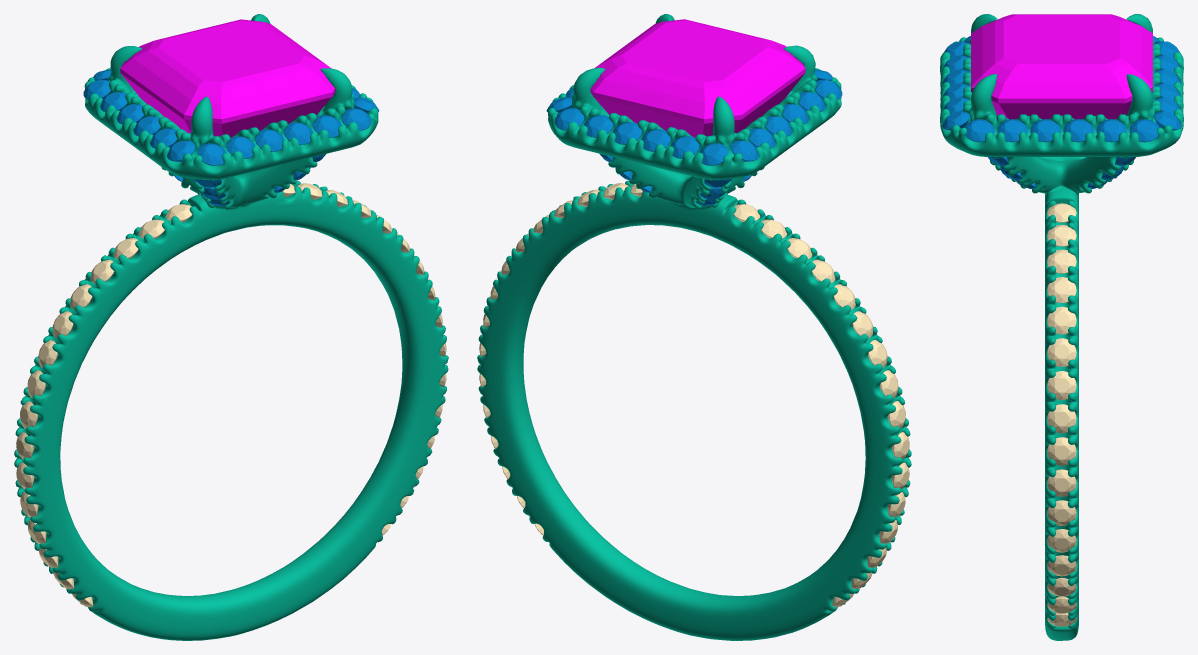
Rendered from BE1D64_AS_200ct_RENDER.glb.
The picture shows the model from 3 angles, left to right: view 1: azimuth 30°, elevation 25°; view 2: azimuth 150°, elevation 25°; view 3: azimuth 270°, elevation 25°; orthographic projection.
Parts seen in each view (by area): view 1: Metal 01, CS_Diamond_Asscher; view 2: Metal 01, CS_Diamond_Asscher; view 3: Metal 01, CS_Diamond_Asscher, Diamond_Round_Gem_SH.006, Diamond_Round_Gem_SH.005, Diamond_Round_Gem_SH.007, Diamond_Round_Gem_SH.008, Diamond_Round_Gem_SH.004, Diamond_Round_Gem_SH.009, Diamond_Round_Gem_SH.003, Diamond_Round_Gem_SH.010, Diamond_Round_Gem_HD.010, Diamond_Round_Gem_SH.002 (+12 smaller).
Part boxes in pixels (x1,y1,x2,y2): Metal 01: [14, 14, 448, 640]; CS_Diamond_Asscher: [120, 19, 335, 137]; Metal 01: [477, 14, 911, 640]; CS_Diamond_Asscher: [590, 19, 805, 137]; Metal 01: [940, 14, 1183, 640]; CS_Diamond_Asscher: [971, 14, 1152, 119]; Diamond_Round_Gem_SH.006: [1047, 371, 1076, 400]; Diamond_Round_Gem_SH.005: [1047, 338, 1076, 366]; Diamond_Round_Gem_SH.007: [1047, 404, 1076, 433]; Diamond_Round_Gem_SH.008: [1047, 437, 1076, 465]; Diamond_Round_Gem_SH.004: [1047, 306, 1076, 334]; Diamond_Round_Gem_SH.009: [1047, 469, 1076, 496]; Diamond_Round_Gem_SH.003: [1047, 277, 1076, 303]; Diamond_Round_Gem_SH.010: [1047, 500, 1076, 525]; Diamond_Round_Gem_HD.010: [964, 119, 994, 142]; Diamond_Round_Gem_SH.002: [1047, 249, 1076, 273].
Bounding box in the file's own units: 20.11 × 26.31 × 10.05.
